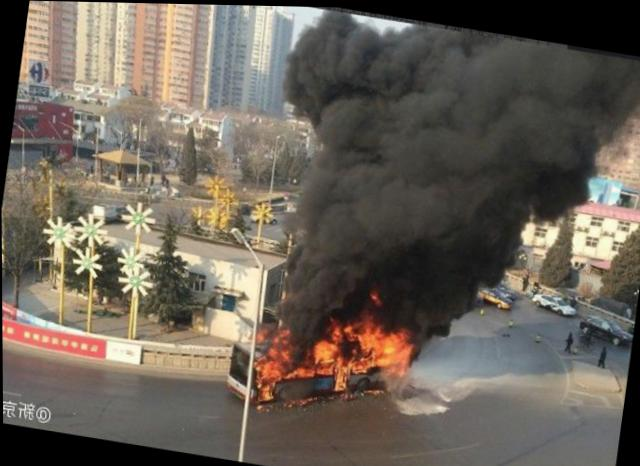fire: (259, 327, 296, 381), (377, 326, 412, 372), (359, 317, 382, 351), (313, 337, 340, 363), (332, 321, 360, 342), (258, 373, 276, 400), (335, 358, 351, 388), (352, 357, 375, 374), (299, 363, 318, 377), (316, 360, 334, 374)
